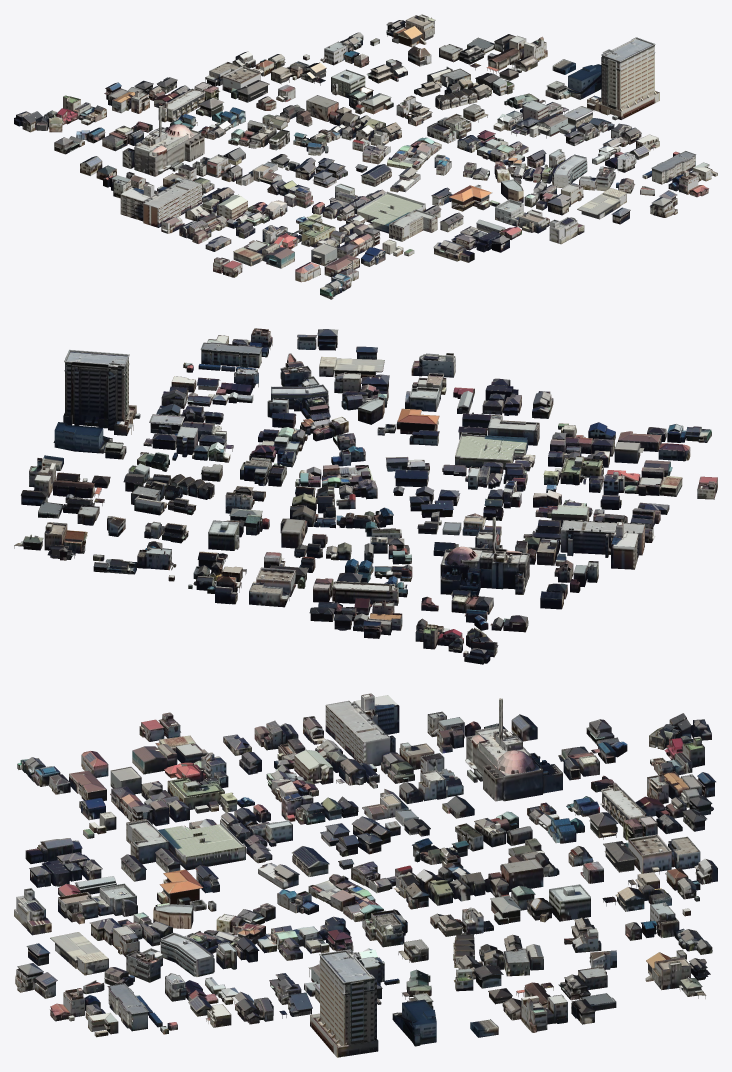
The model's file is station-3-2-packed.glb.
3 views of the same model, one above another, from view 1: azimuth 30°, elevation 25°; view 2: azimuth 150°, elevation 25°; view 3: azimuth 270°, elevation 25° (orthographic). The views are drawn at different scales.
Size of the model in its own units: 396 by 41.88 by 350.
19 materials, 18 textured.
